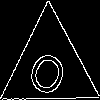O: (24, 40, 74, 100)
